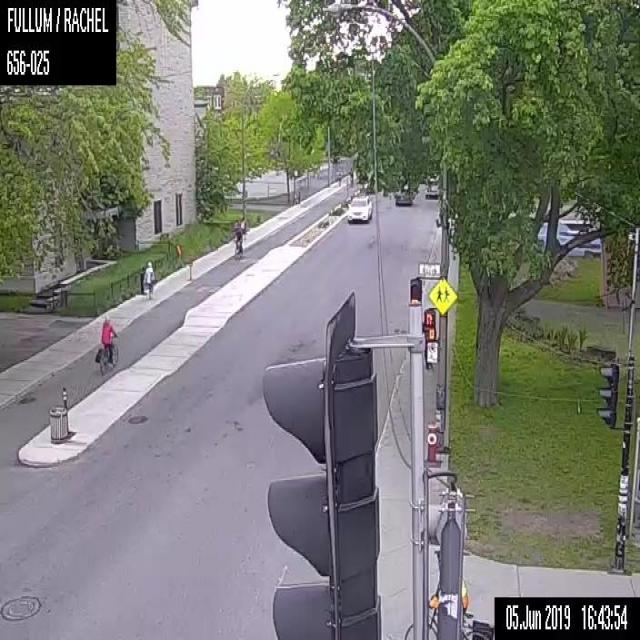cyclist: (404, 549, 494, 639), (94, 314, 118, 374), (232, 222, 242, 258)
pedestrian: (142, 260, 154, 300)
vehicle: (346, 195, 372, 222), (424, 178, 439, 197), (395, 189, 412, 204)
